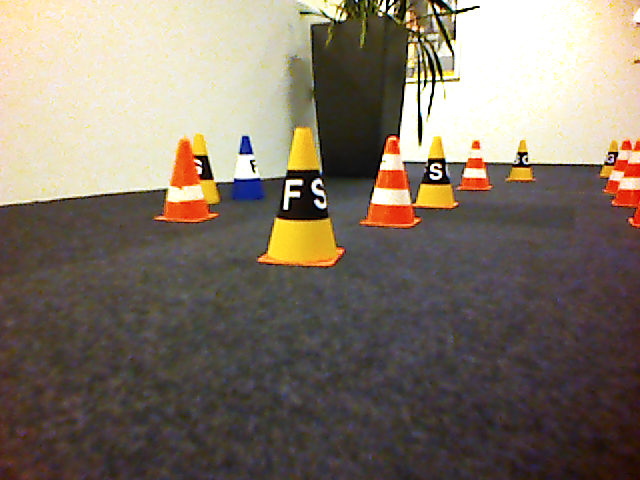bluecone: (232, 136, 266, 201)
orangeconesmall: (360, 136, 423, 228), (457, 139, 494, 191), (613, 138, 640, 206)
yellowcone: (258, 128, 346, 269), (413, 136, 459, 208), (504, 140, 537, 183)
